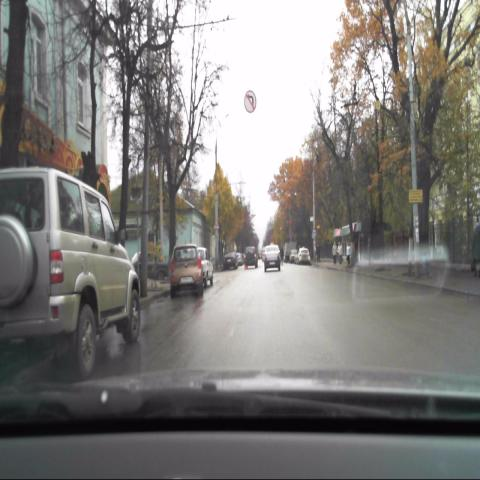3_18_2: (244, 90, 256, 114)
